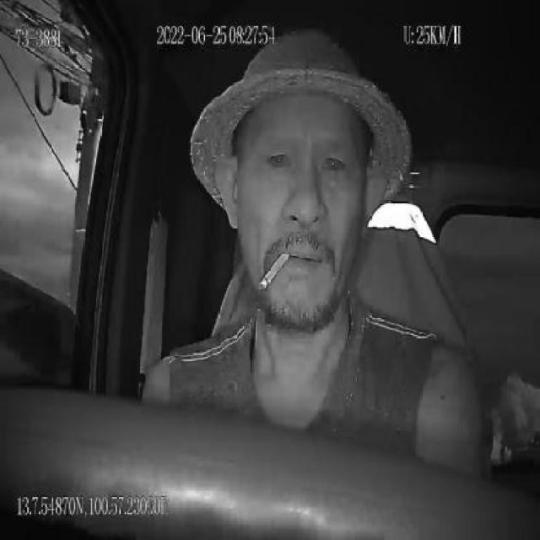smoking: (259, 248, 290, 295)
